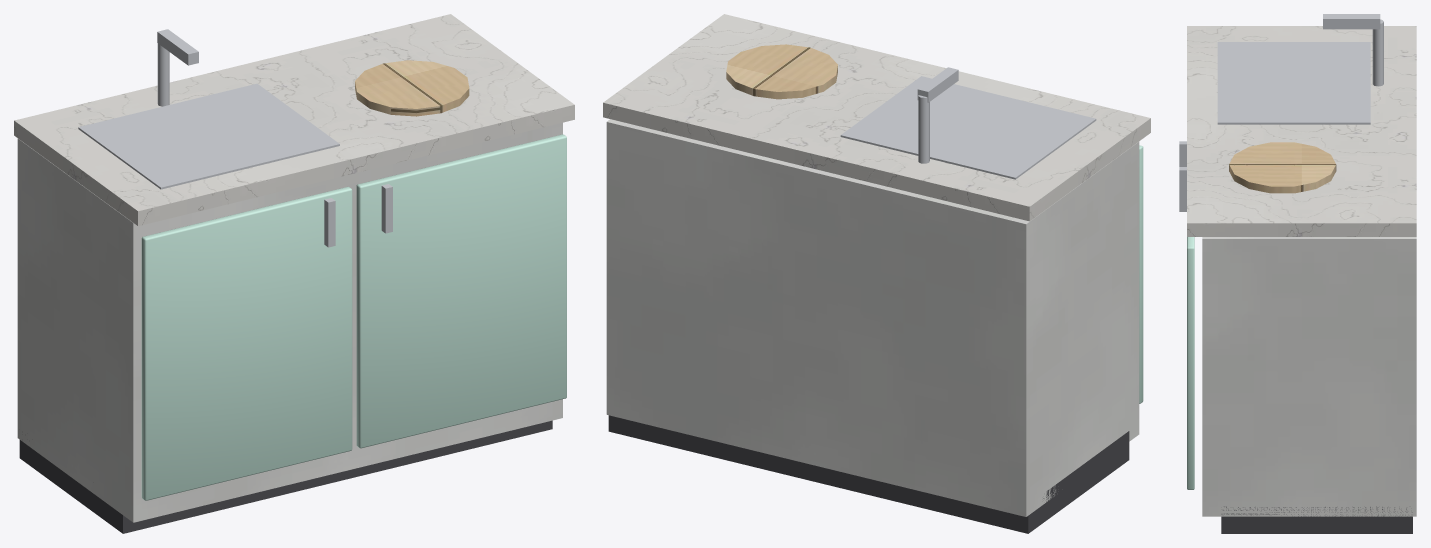
3 renders of one model, left to right at view 1: azimuth 30°, elevation 25°; view 2: azimuth 150°, elevation 25°; view 3: azimuth 270°, elevation 25°, orthographic. The views are drawn at different scales.
Visible parts, largest first — view 1: Decor_kitchen_counter; view 2: Decor_kitchen_counter; view 3: Decor_kitchen_counter.
Boxes of the visible parts, x1,y1,x2,y2 form: Decor_kitchen_counter: (14,14,574,533); Decor_kitchen_counter: (603,14,1150,533); Decor_kitchen_counter: (1179,14,1416,533).
Size of the model in its own units: 1.22 by 1.1 by 0.62.
6 materials, 3 textured.
